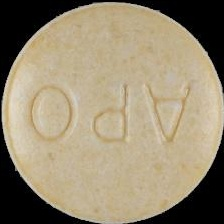60505-0169: (0, 0, 224, 224)
